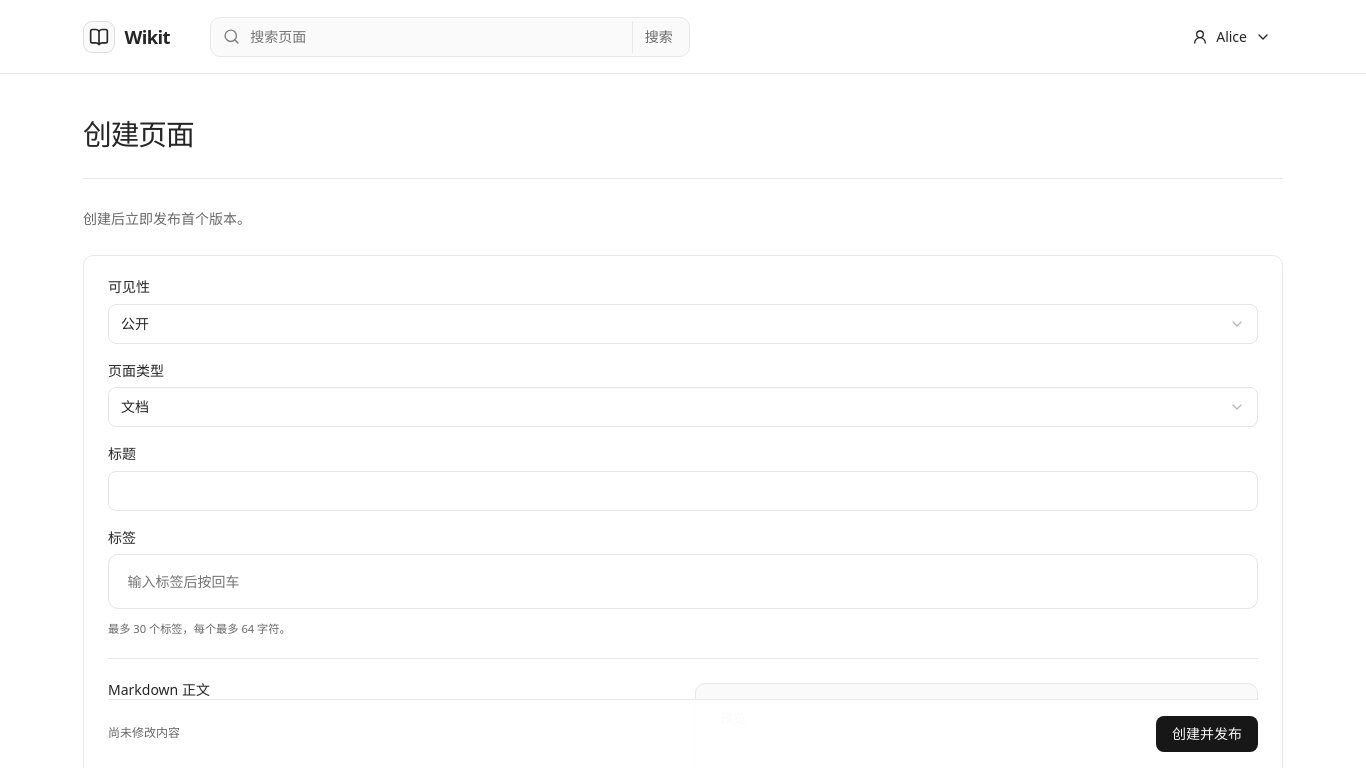
requires confirmation before leaving an unsaved editor
In the field labelled "标题": coordinates (683, 491) [108, 471, 1258, 511], type "未提交"
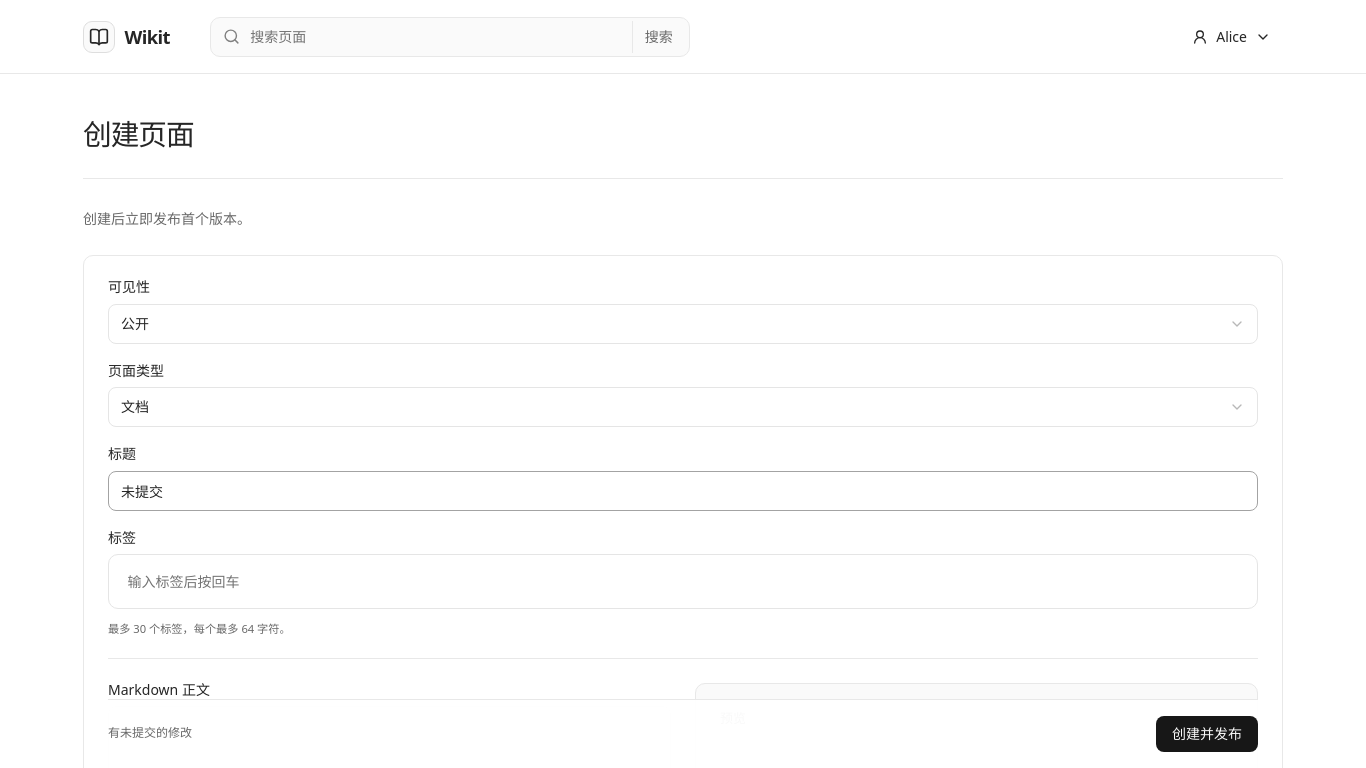
Click the link with aria-label "Wikit 首页": coordinates (126, 36) [83, 20, 170, 52]
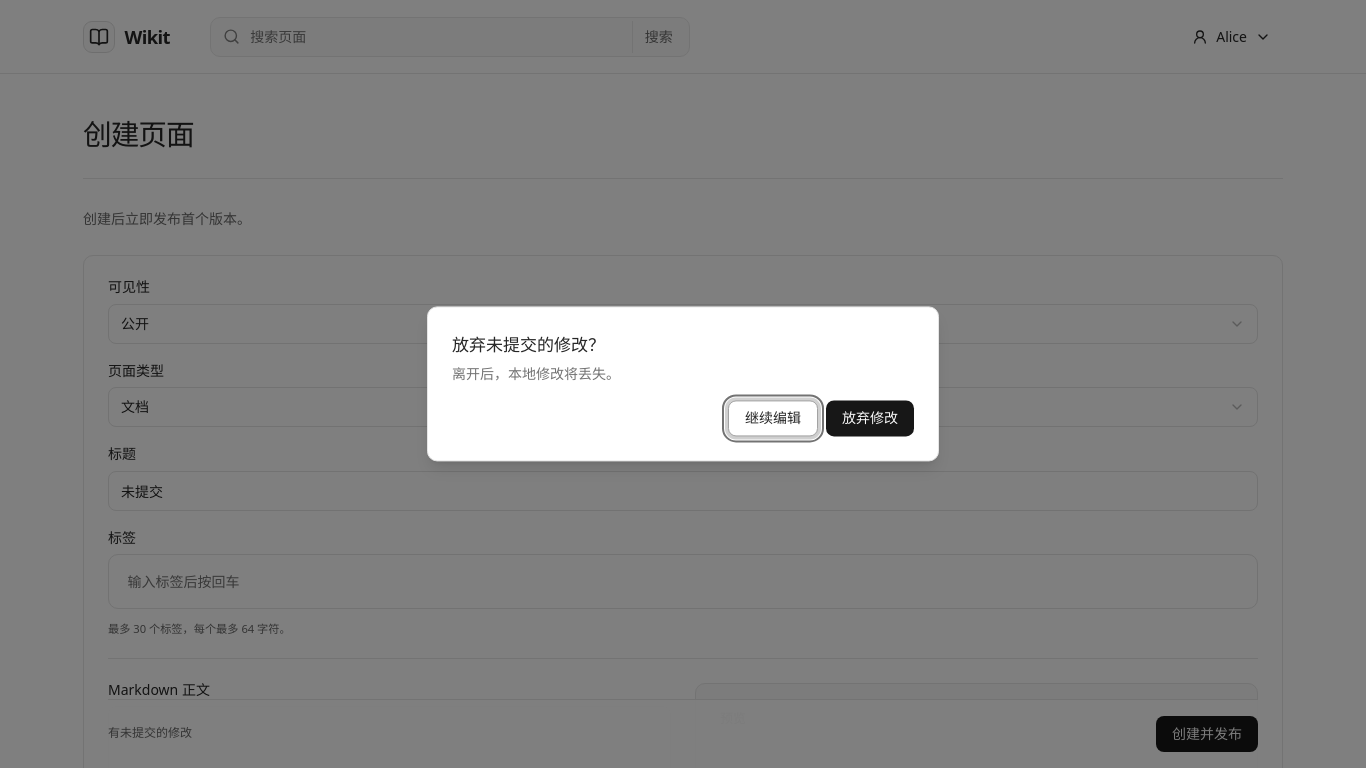
Check: the dialog is shown, box [427, 306, 939, 462]
Click the button "继续编辑": coordinates (773, 419) [728, 401, 818, 437]
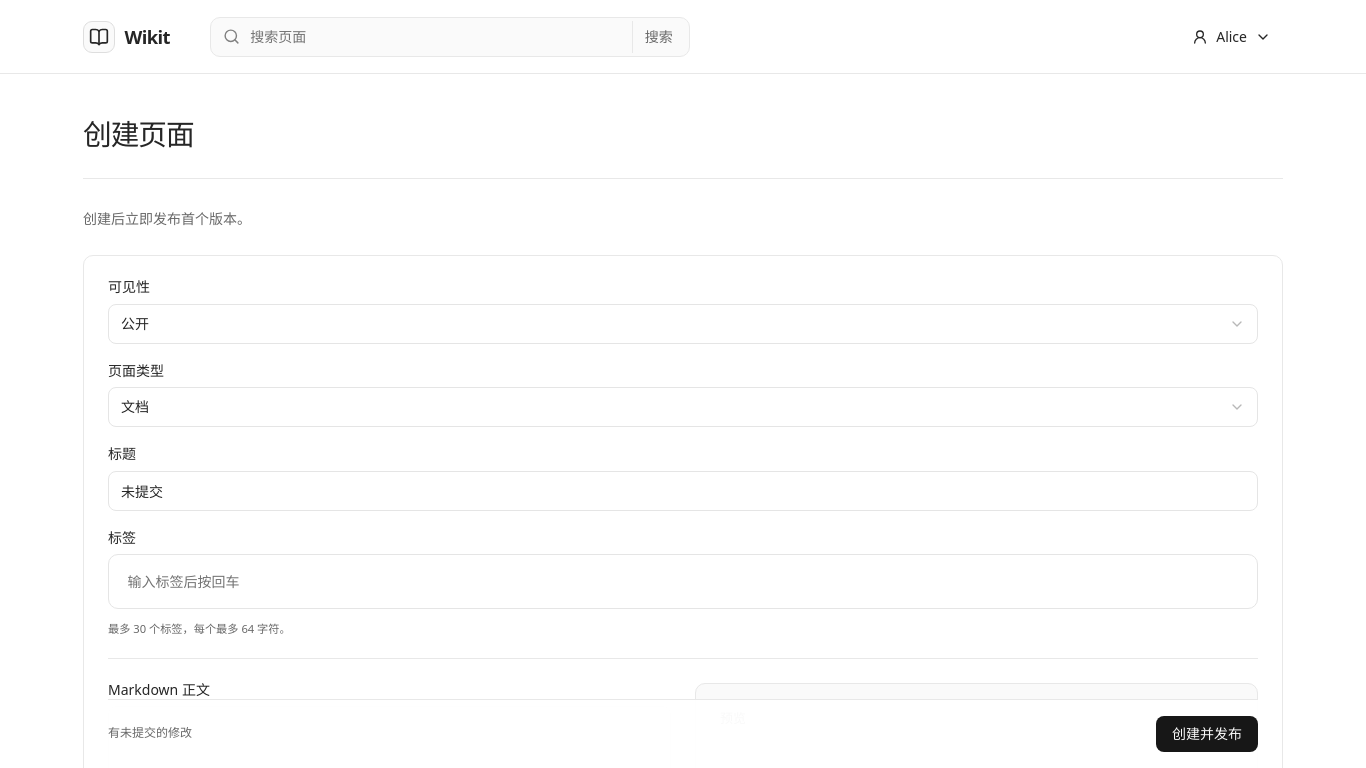
Click the link with aria-label "Wikit 首页": coordinates (126, 36) [83, 20, 170, 52]
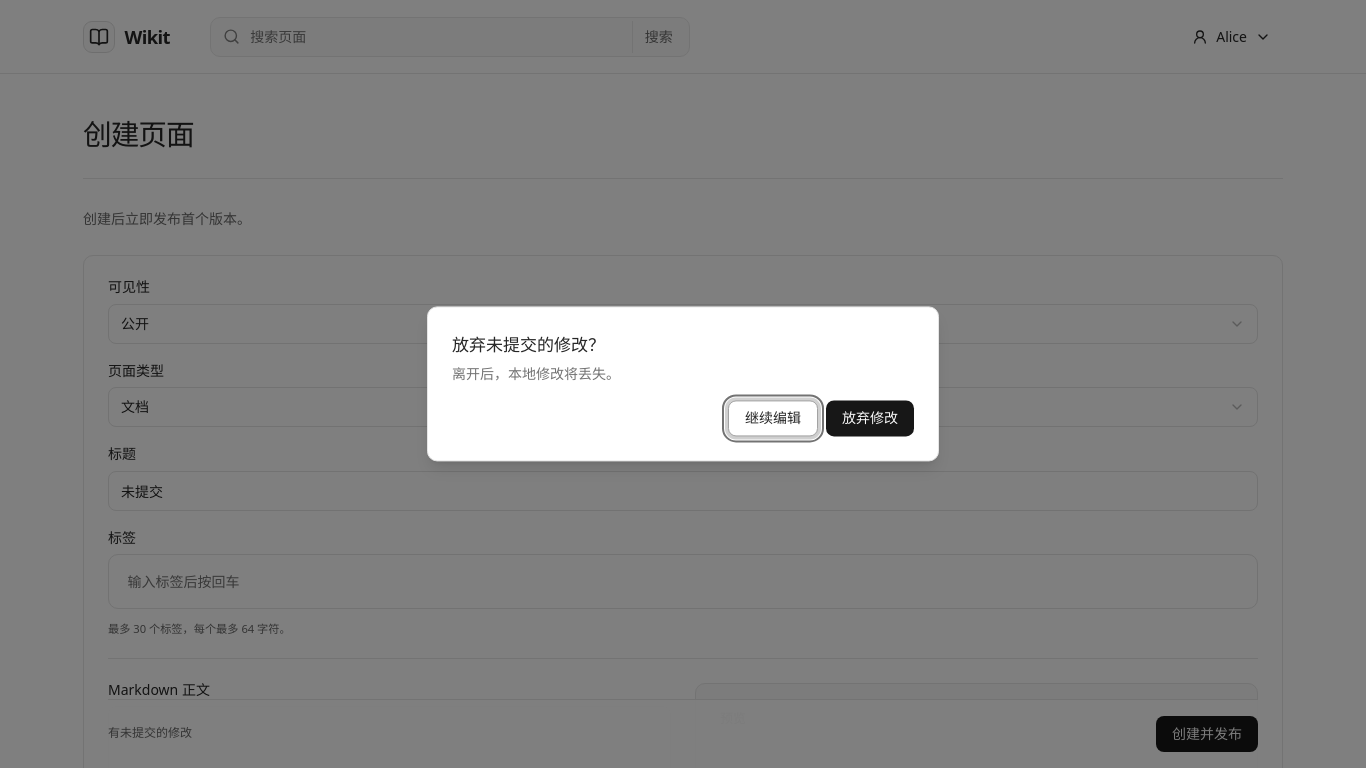
Click the button "放弃修改": coordinates (870, 419) [826, 401, 914, 437]
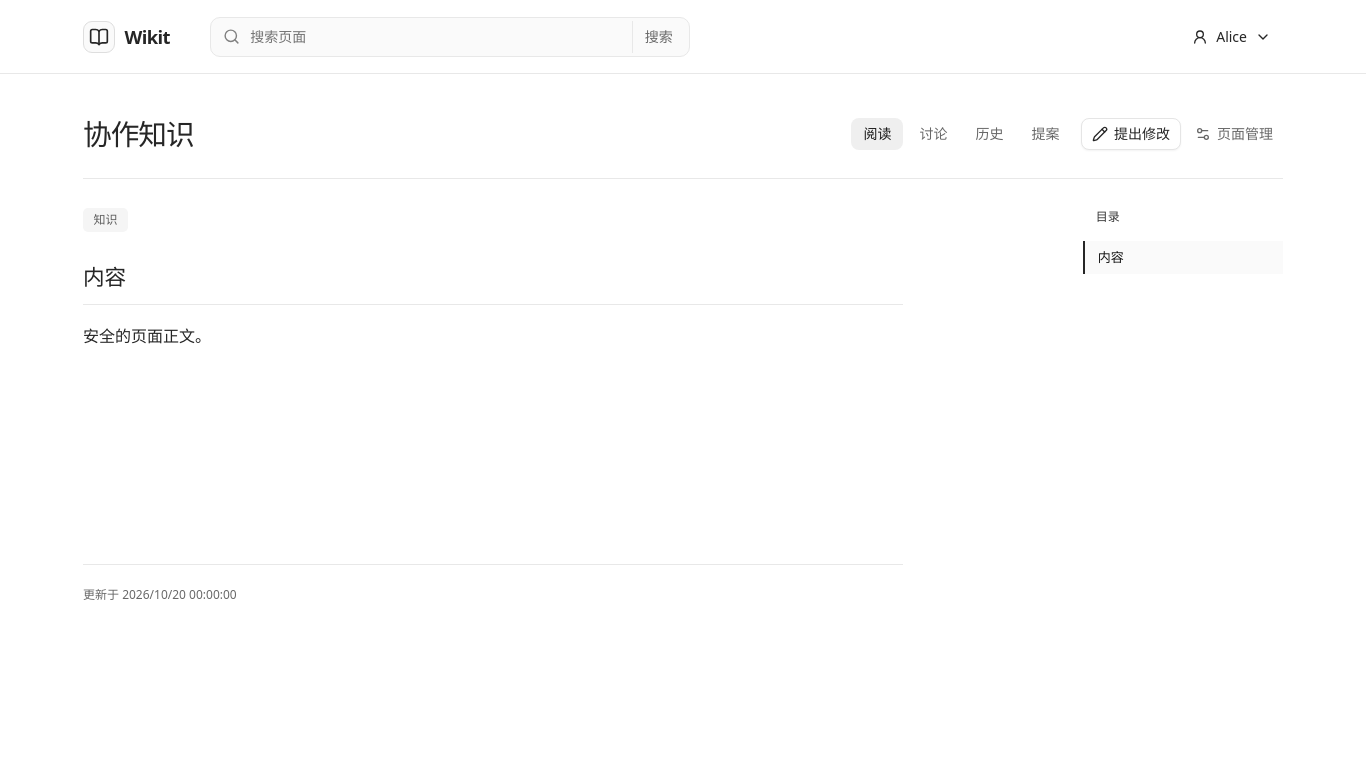
Check: the heading "协作知识" is shown, box [83, 114, 194, 153]
